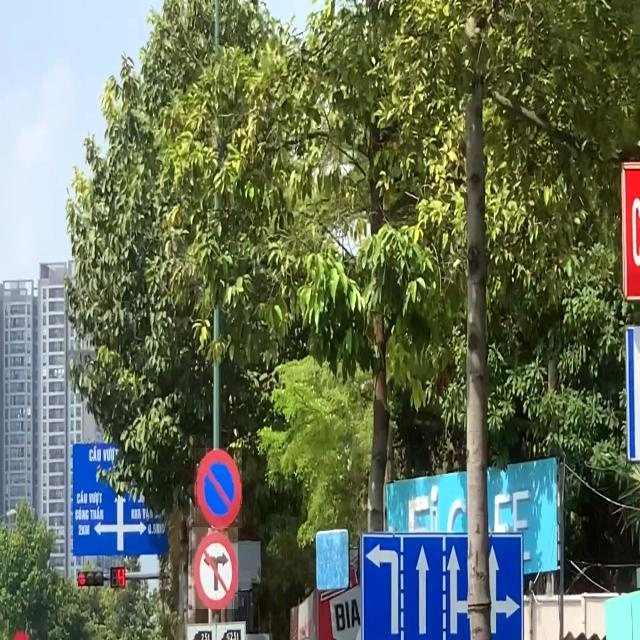bien_cam: (192, 527, 238, 609), (195, 448, 242, 528)
